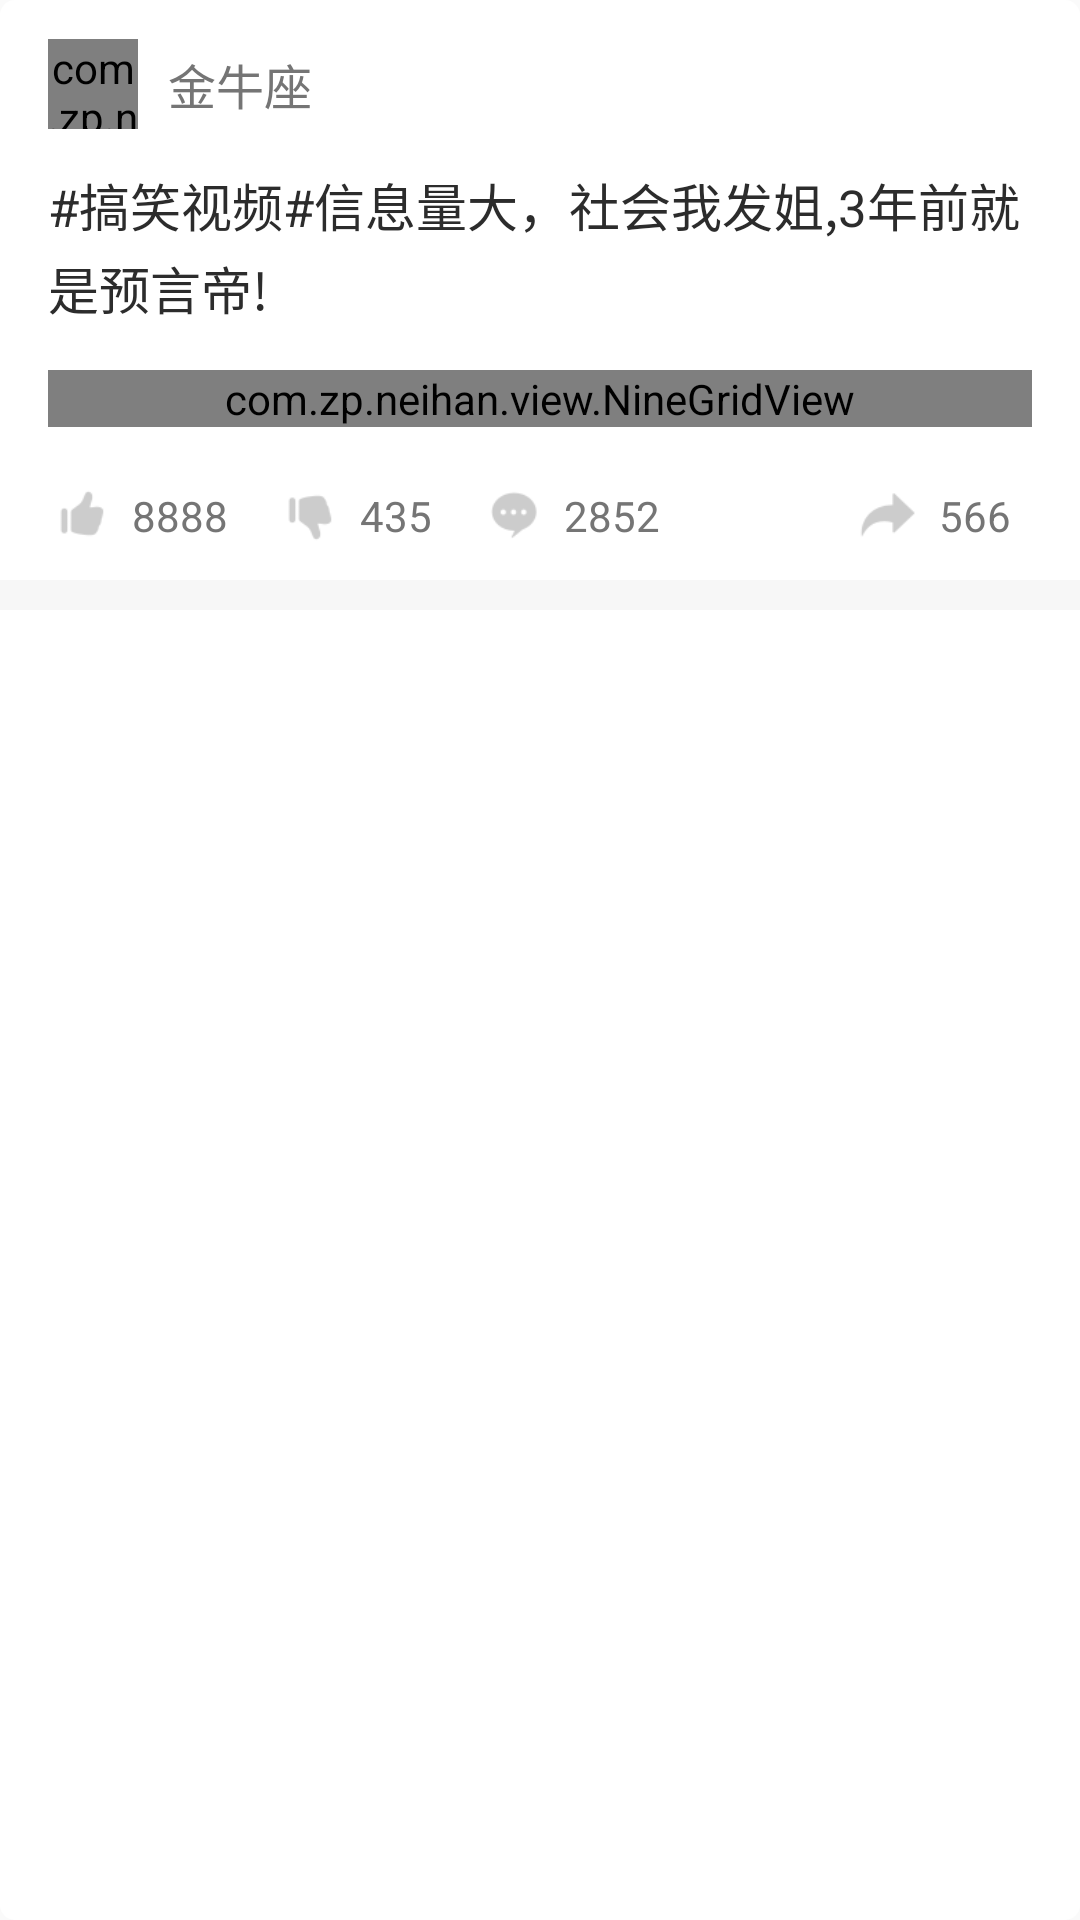

Icon bounding boxes for this 1080×1920 phone screenshot, format bbox=[x1, y1, x2, y2]:
boring: bbox=[289, 496, 331, 539]
discussion: bbox=[492, 493, 536, 538]
praise: bbox=[61, 492, 103, 535]
sharedseletor: bbox=[862, 494, 914, 535]
